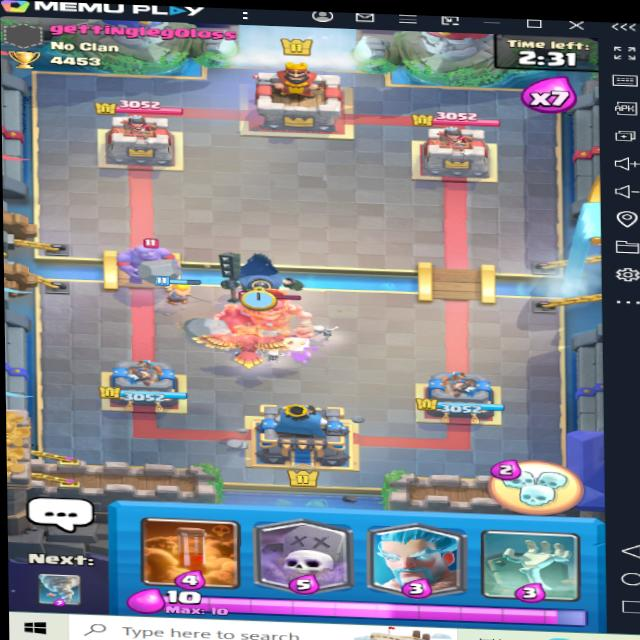bowler: (115, 237, 186, 295)
giant-skeleton: (211, 293, 315, 346)
